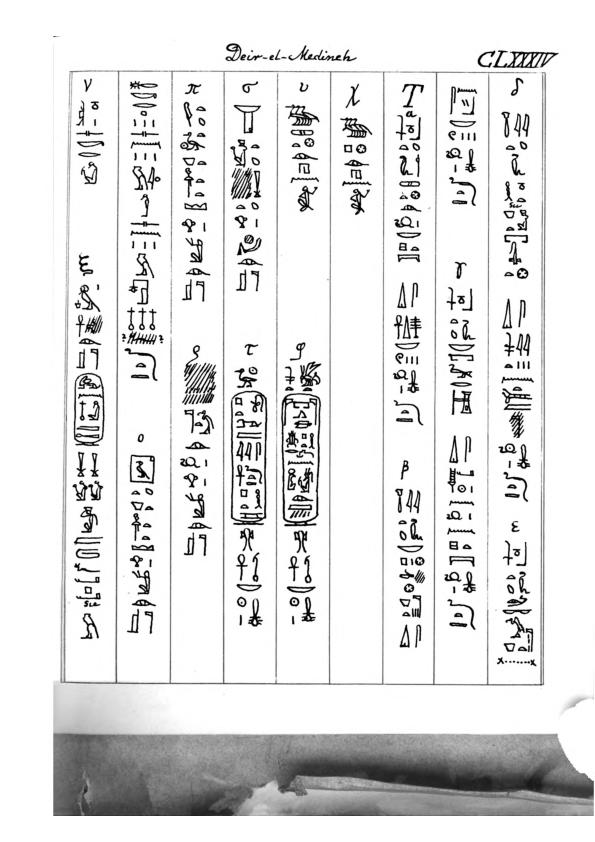circle: (279, 392, 321, 528), (228, 390, 269, 528), (70, 371, 108, 450)
